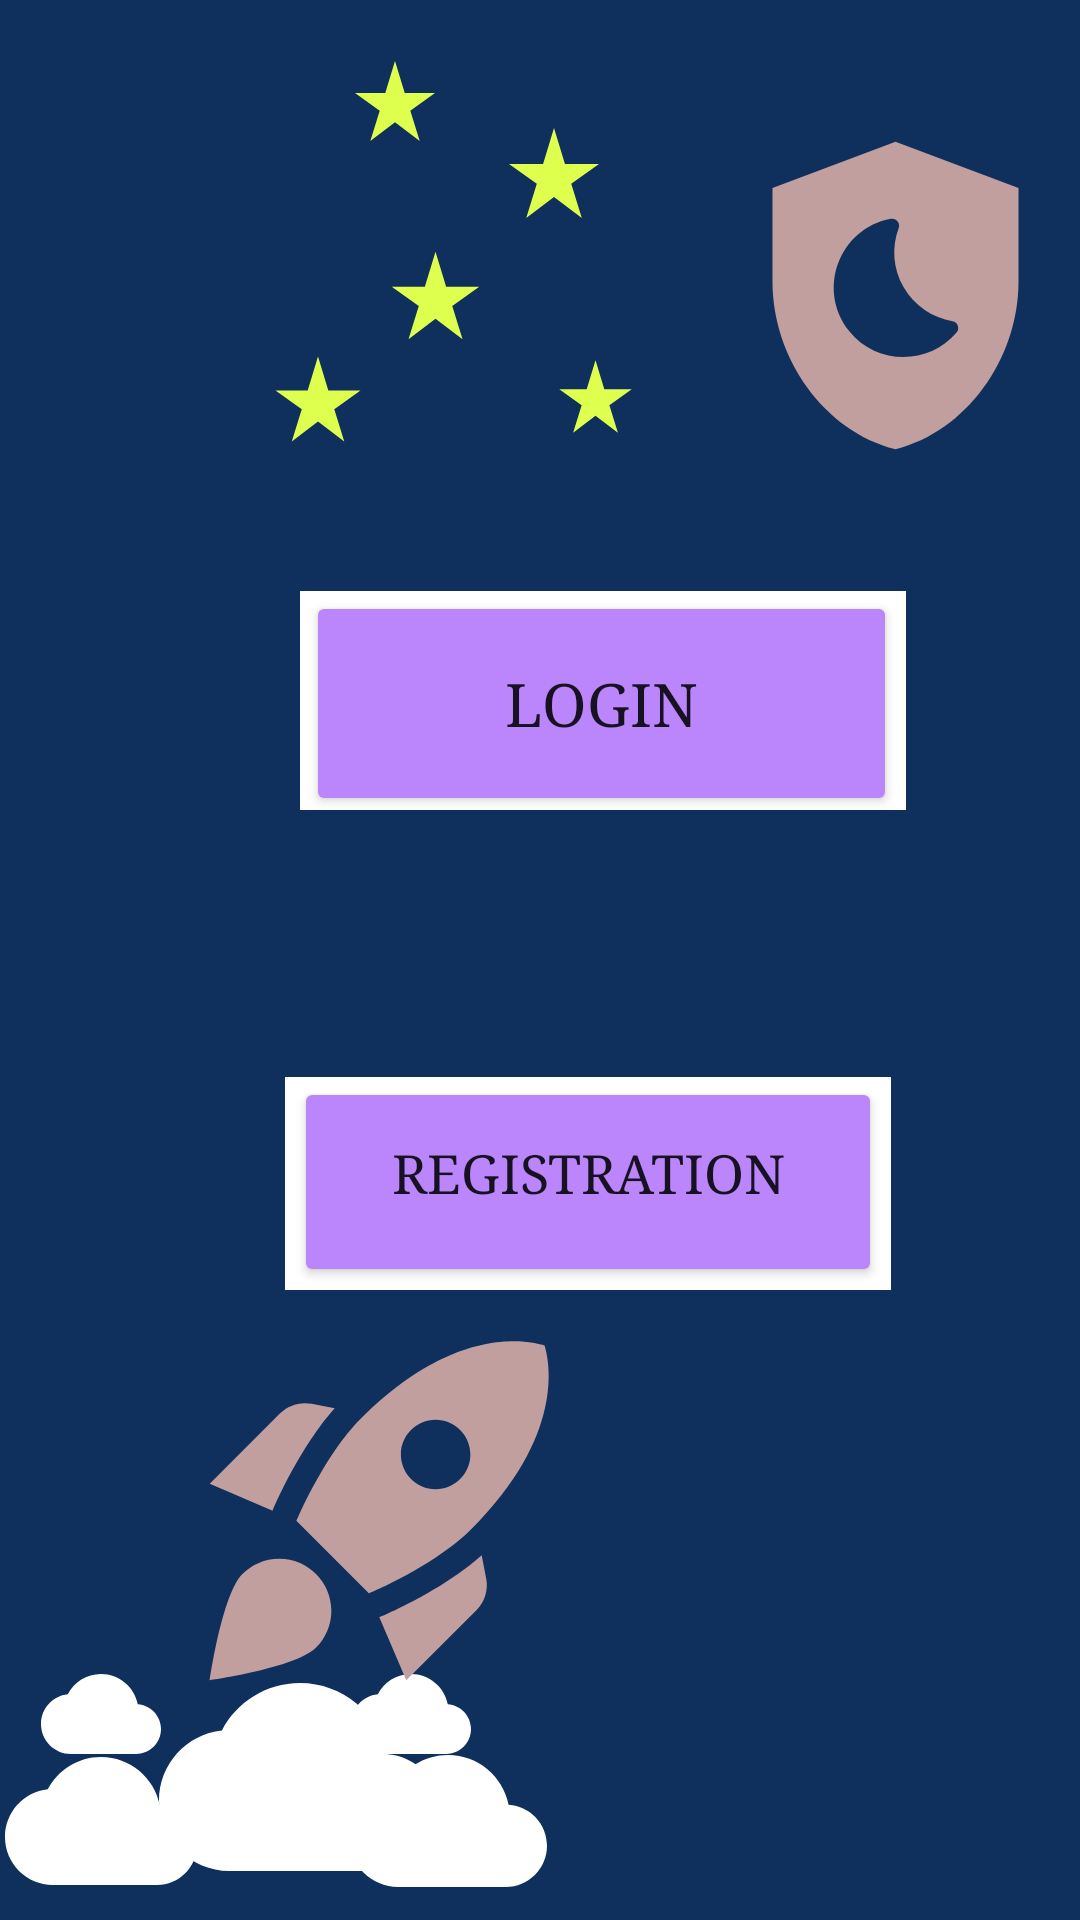

Icon click points for this 1080 x 1920 phone screenshot, format point (x, y):
shield moon: point (895, 295)
star rate: point (395, 101), point (554, 173), point (435, 295), point (318, 399), point (595, 396)
